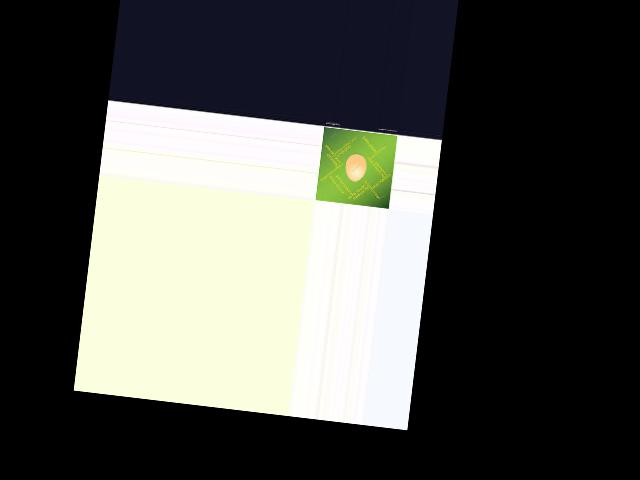egg: (344, 153, 368, 182)
